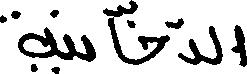X: (0, 5, 55, 73), (138, 16, 168, 69), (180, 13, 199, 69), (108, 0, 123, 66), (235, 20, 246, 71), (210, 21, 221, 69), (81, 30, 95, 66), (64, 29, 76, 64)
